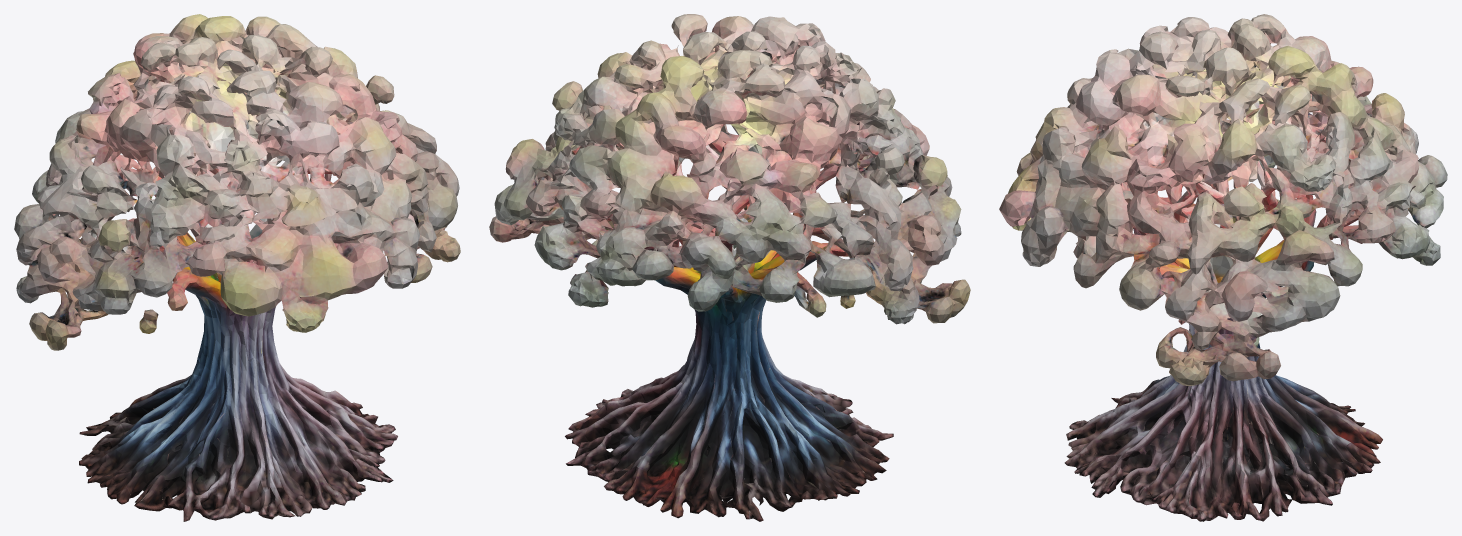
The model's file is 3D Holo Knowledge Tree.glb.
3 renders of one model, left to right at view 1: azimuth 30°, elevation 25°; view 2: azimuth 150°, elevation 25°; view 3: azimuth 270°, elevation 25°, orthographic.
Visible parts, largest first — view 1: world; view 2: world; view 3: world.
Part boxes in pixels (x1=…): world: x1=14, y1=14, x2=460, y2=521; world: x1=489, y1=14, x2=970, y2=521; world: x1=999, y1=14, x2=1447, y2=521.
Size of the model in its own units: 1 by 0.9542 by 0.9092.
1 material, 1 textured.
